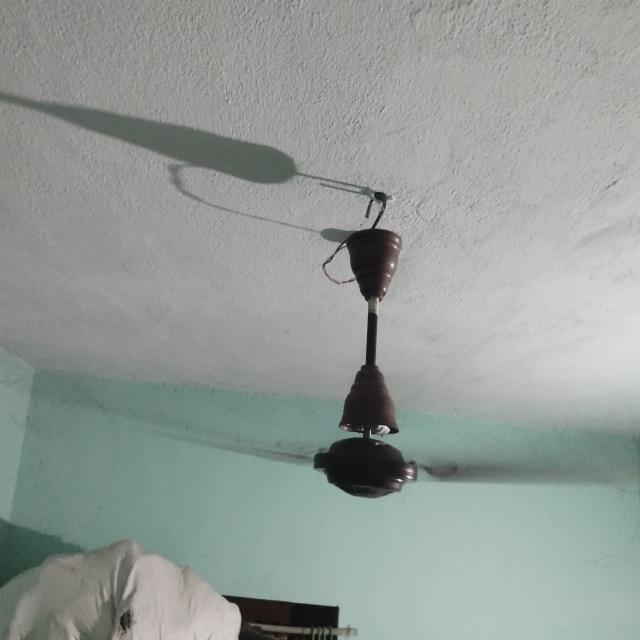fan_on: (84, 218, 640, 498)
